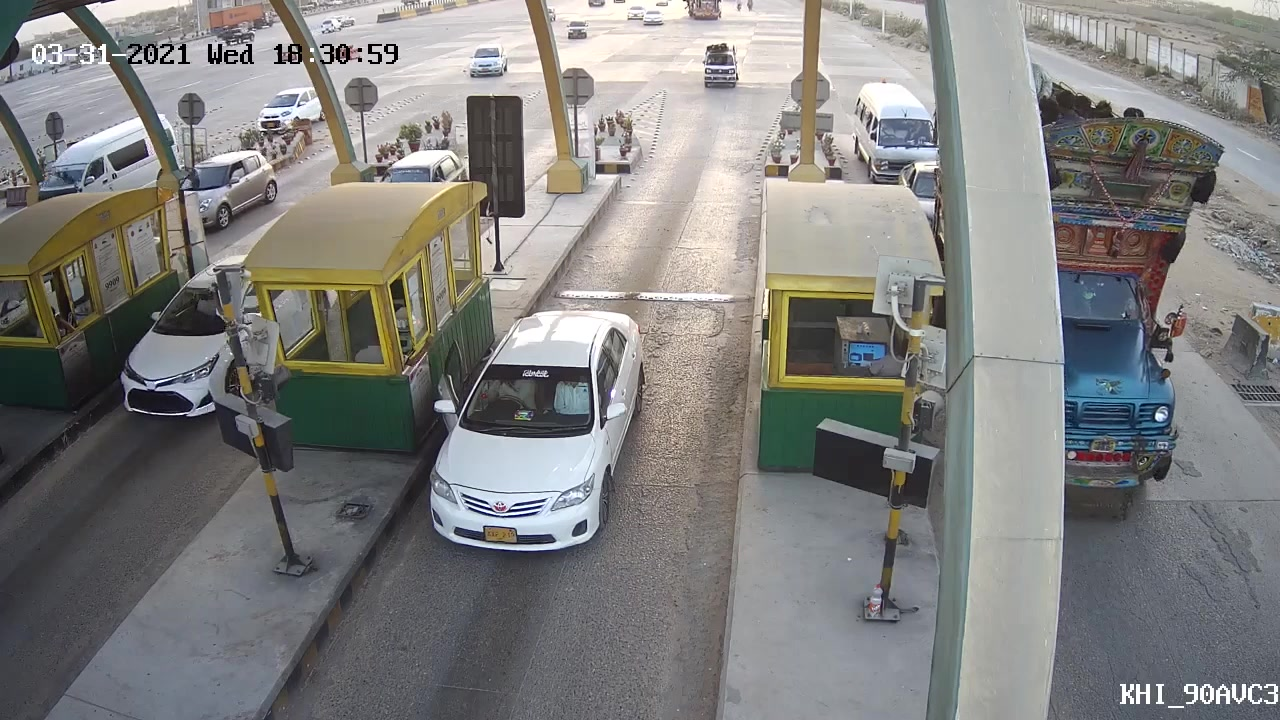F1: (430, 304, 654, 564)
